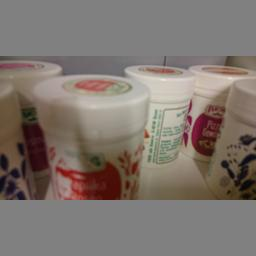spices: (30, 73, 148, 199), (126, 65, 196, 166), (202, 76, 255, 198)
